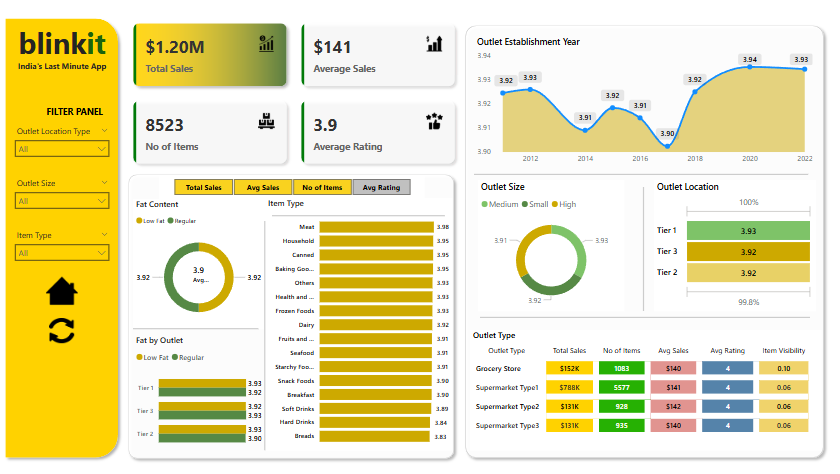

The dashboard page shown, as its layout file describes it:
{"tool":"powerbi","page":{"name":"Page 1","canvas":[1400,800],"ordinal":0},"visuals":[{"type":"shape","box":[0,24.1,205.6,750.2],"z":0},{"type":"textbox","box":[20.9,35.3,163.9,75.5],"z":1000},{"type":"textbox","box":[14.5,98,176.7,27.3],"z":2000},{"type":"cardVisual","fields":{"Data":["Key Metrics.Total Sales","Key Metrics.Average Sales","Key Metrics.No of Items","Key Metrics.Average Rating"]},"box":[205.6,24.1,570.3,269.9],"z":3000},{"type":"shape","box":[205.6,282.7,560.6,491.6],"z":4000},{"type":"donutChart","title":"Fat Content","fields":{"Y":["Key Metrics.Total Sales"],"Category":["BlinkIT Grocery Data.Item Fat Content"]},"box":[221.4,332.9,220,217.1],"z":5000},{"type":"slicer","fields":{"Values":["Metrics.Metrics"]},"box":[265.1,294,443.4,40.2],"z":6000},{"type":"cardVisual","fields":{"Data":["Key Metrics.Total Sales"]},"box":[289.2,422.5,85.1,73.9],"z":7000},{"type":"clusteredBarChart","title":"Fat by Outlet","fields":{"Y":["Key Metrics.Total Sales"],"Category":["BlinkIT Grocery Data.Outlet Location Type"],"Series":["BlinkIT Grocery Data.Item Fat Content"]},"box":[221.4,560,220,201.4],"z":8000},{"type":"barChart","title":"Item Type","fields":{"Y":["Key Metrics.Total Sales"],"Category":["BlinkIT Grocery Data.Item Type"]},"box":[441.8,330.9,311.6,420.9],"z":9000},{"type":"shape","box":[221.7,520.5,208.8,59.4],"z":10000},{"type":"shape","box":[409.6,369.5,62.7,382.3],"z":11000},{"type":"shape","box":[453,330.9,287.6,59.4],"z":12000},{"type":"shape","box":[766.3,35.3,615.3,739],"z":13000},{"type":"areaChart","title":"Outlet Establishment Year","fields":{"Y":["Key Metrics.Total Sales"],"Category":["BlinkIT Grocery Data.Outlet Establishment Year"]},"box":[790,60,570,224.3],"z":14000},{"type":"donutChart","title":"Outlet Size","fields":{"Y":["Key Metrics.Total Sales"],"Category":["BlinkIT Grocery Data.Outlet Size"]},"box":[797.1,301.4,244.3,218.6],"z":15000},{"type":"funnel","title":"Outlet Location","fields":{"Y":["Key Metrics.Total Sales"],"Category":["BlinkIT Grocery Data.Outlet Location Type"]},"box":[1090,301.4,270,218.6],"z":16000},{"type":"shape","box":[790,263.3,556.7,58.3],"z":17000},{"type":"shape","box":[1041.7,313.3,61.7,206.7],"z":18000},{"type":"shape","box":[800,501.7,550,58.3],"z":19000},{"type":"pivotTable","title":"Outlet Type","fields":{"Rows":["BlinkIT Grocery Data.Outlet Type"],"Values":["Key Metrics.Total Sales","Key Metrics.No of Items","Key Metrics.Avg Sales","Key Metrics.Avg Rating","Avg(BlinkIT Grocery Data.Item Visibility)"]},"box":[782.9,551.4,585.7,201.4],"z":20000},{"type":"slicer","fields":{"Values":["BlinkIT Grocery Data.Outlet Location Type"]},"box":[15,206.7,176.7,76.7],"z":21000},{"type":"slicer","fields":{"Values":["BlinkIT Grocery Data.Outlet Size"]},"box":[15,293.3,176.7,73.3],"z":22000},{"type":"slicer","fields":{"Values":["BlinkIT Grocery Data.Item Type"]},"box":[15,380,176.7,73.3],"z":23000},{"type":"textbox","box":[62.7,171.9,122.1,36.9],"z":24000},{"type":"actionButton","box":[76.7,460,53.3,53.3],"z":25000},{"type":"actionButton","box":[81.7,531.7,41.7,41.7],"z":26000}]}

Visuals, with their boxes in screenshot pixels (x1, y1, x2, y2), scaled from the page's 1400x800 canvas onto the 840x474 screenshot:
shape: x1=0 y1=14 x2=123 y2=459
textbox: x1=13 y1=21 x2=111 y2=66
textbox: x1=9 y1=58 x2=115 y2=74
cardVisual - Key Metrics.Total Sales x Key Metrics.Average Sales: x1=123 y1=14 x2=466 y2=174
shape: x1=123 y1=167 x2=460 y2=459
"Fat Content" donutChart: x1=133 y1=197 x2=265 y2=326
slicer - Metrics.Metrics: x1=159 y1=174 x2=425 y2=198
cardVisual - Key Metrics.Total Sales: x1=174 y1=250 x2=225 y2=294
"Fat by Outlet" clusteredBarChart: x1=133 y1=332 x2=265 y2=451
"Item Type" barChart: x1=265 y1=196 x2=452 y2=445
shape: x1=133 y1=308 x2=258 y2=344
shape: x1=246 y1=219 x2=283 y2=445
shape: x1=272 y1=196 x2=444 y2=231
shape: x1=460 y1=21 x2=829 y2=459
"Outlet Establishment Year" areaChart: x1=474 y1=36 x2=816 y2=168
"Outlet Size" donutChart: x1=478 y1=179 x2=625 y2=308
"Outlet Location" funnel: x1=654 y1=179 x2=816 y2=308
shape: x1=474 y1=156 x2=808 y2=191
shape: x1=625 y1=186 x2=662 y2=308
shape: x1=480 y1=297 x2=810 y2=332
"Outlet Type" pivotTable: x1=470 y1=327 x2=821 y2=446
slicer - BlinkIT Grocery Data.Outlet Location Type: x1=9 y1=122 x2=115 y2=168
slicer - BlinkIT Grocery Data.Outlet Size: x1=9 y1=174 x2=115 y2=217
slicer - BlinkIT Grocery Data.Item Type: x1=9 y1=225 x2=115 y2=269
textbox: x1=38 y1=102 x2=111 y2=124
actionButton: x1=46 y1=273 x2=78 y2=304
actionButton: x1=49 y1=315 x2=74 y2=340
